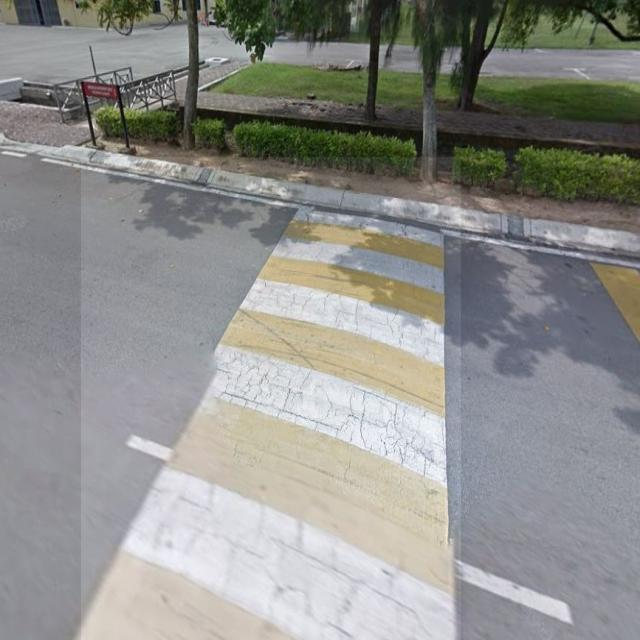speed-bump: (81, 157, 461, 640)
